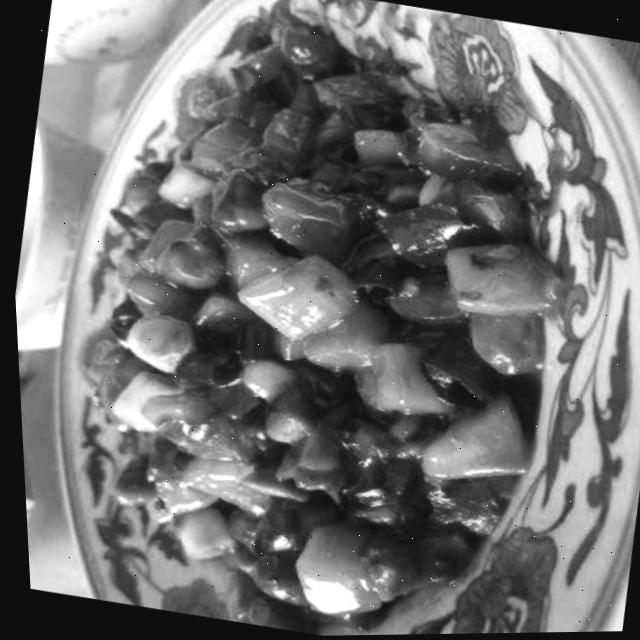鸡肉料理 含炸鸡: (6, 0, 624, 640)
